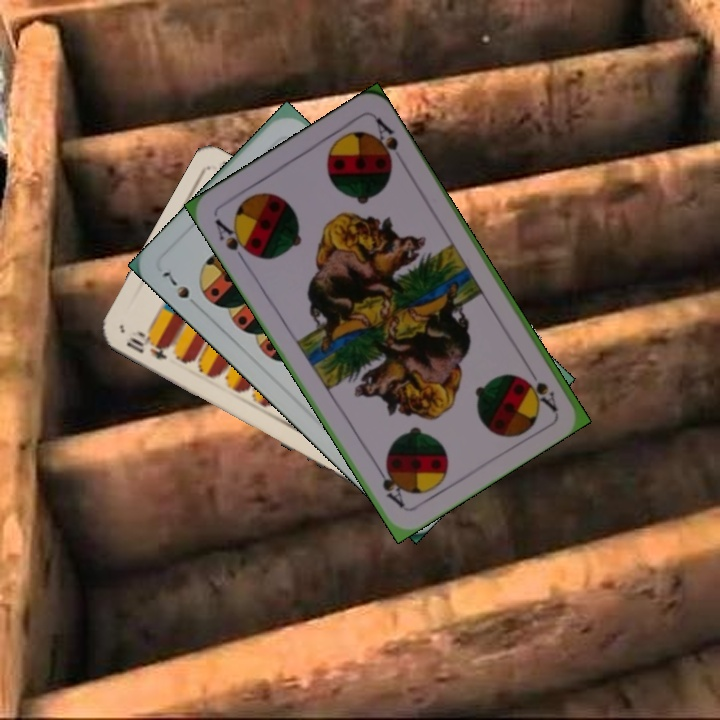E10: (122, 326, 172, 362)
S7: (158, 267, 203, 312)
SA: (210, 214, 257, 266), (524, 360, 560, 414)
